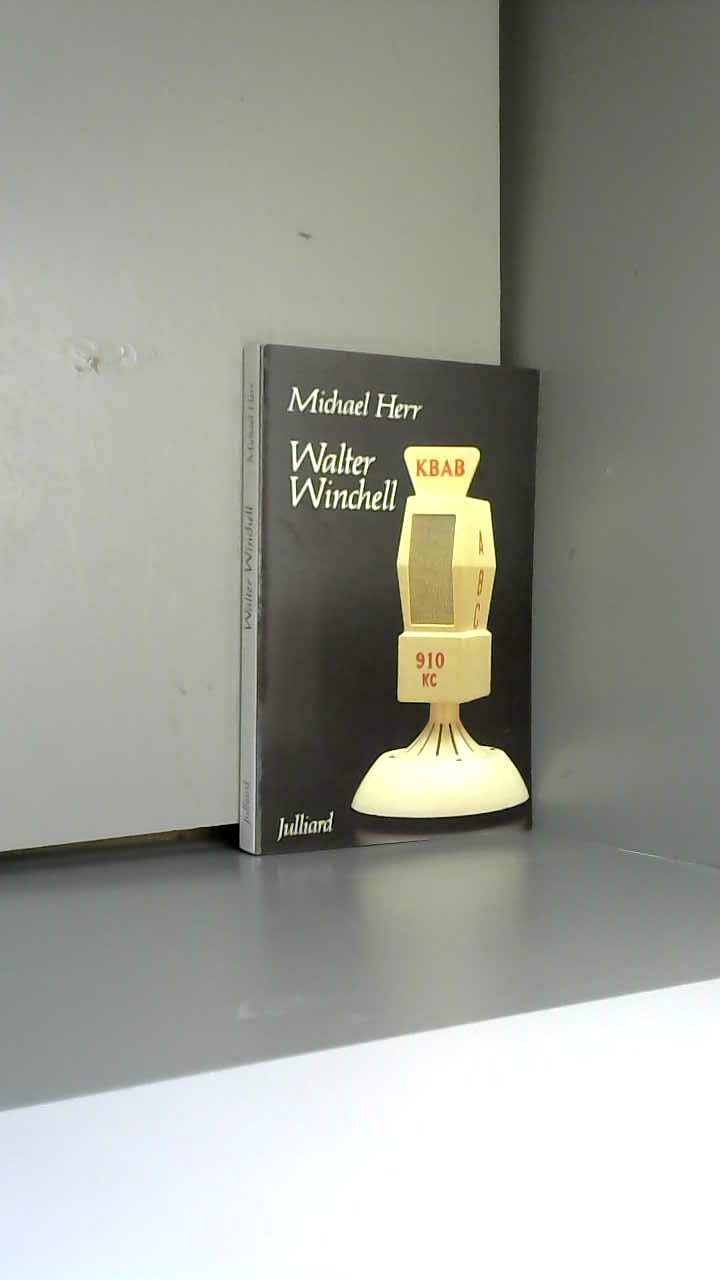book: (204, 303, 579, 890)
